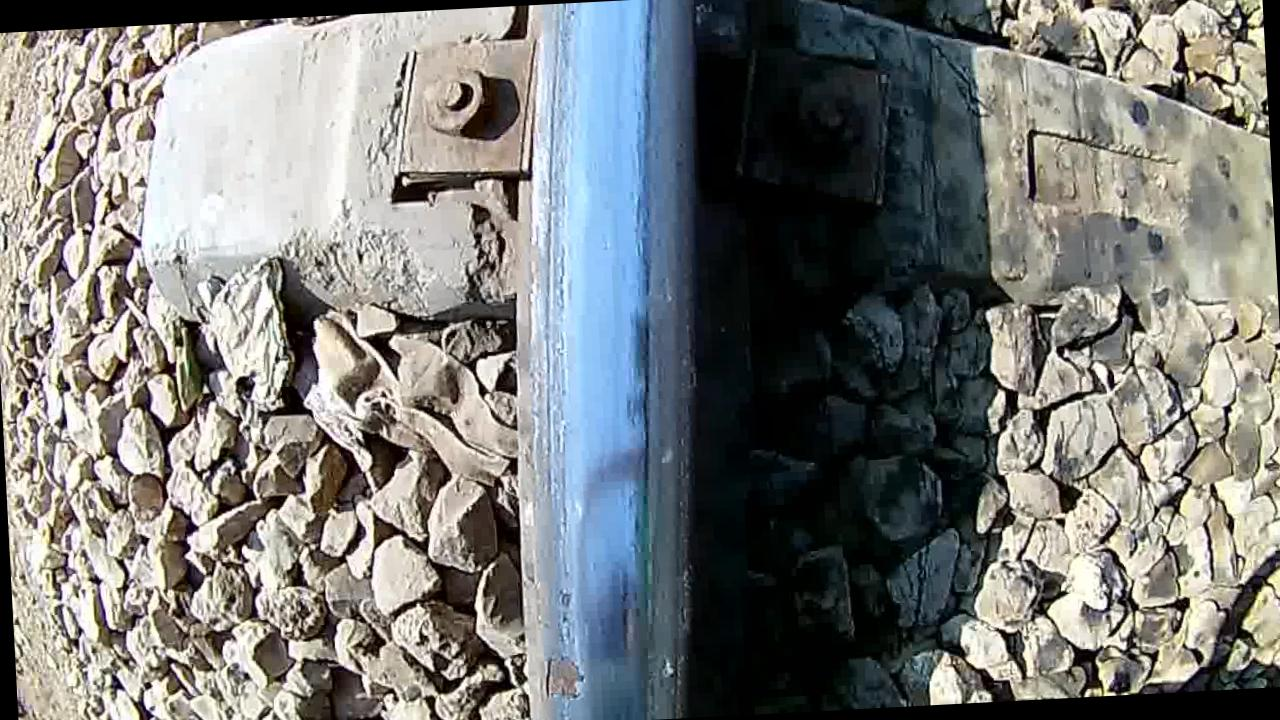crack: (500, 42, 701, 720)
